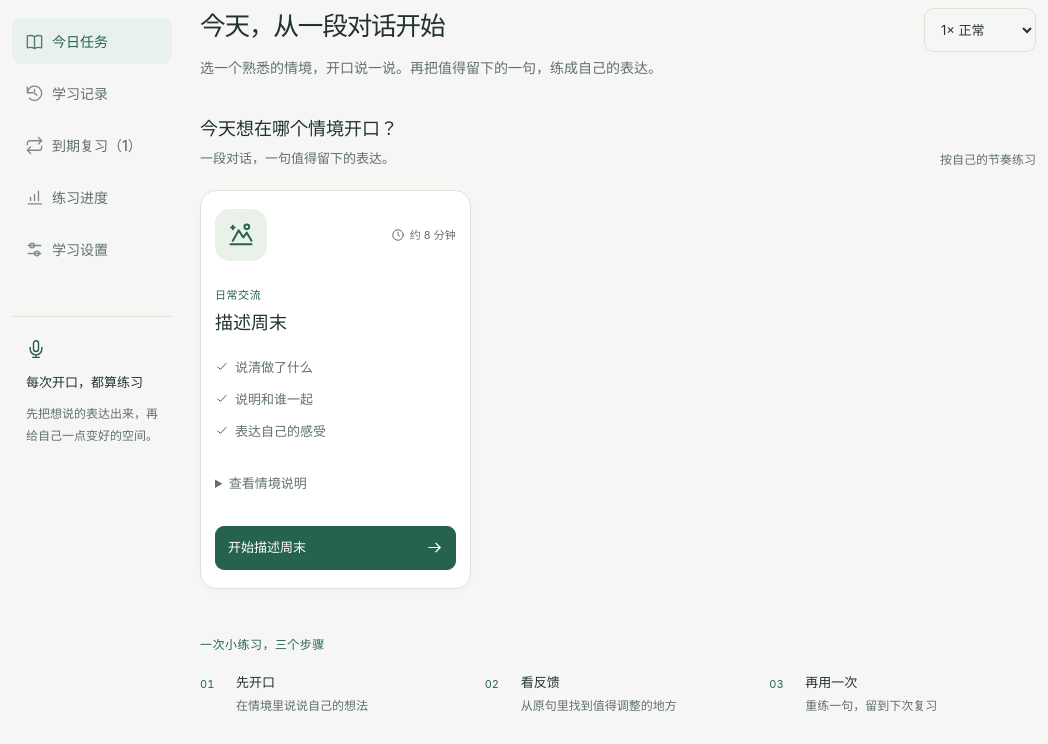
Test case: hides the next prompt after an assessed response and does not submit another answer before due
Click the button "到期复习（1）".
click(92, 145)  # box [12,122,172,168]
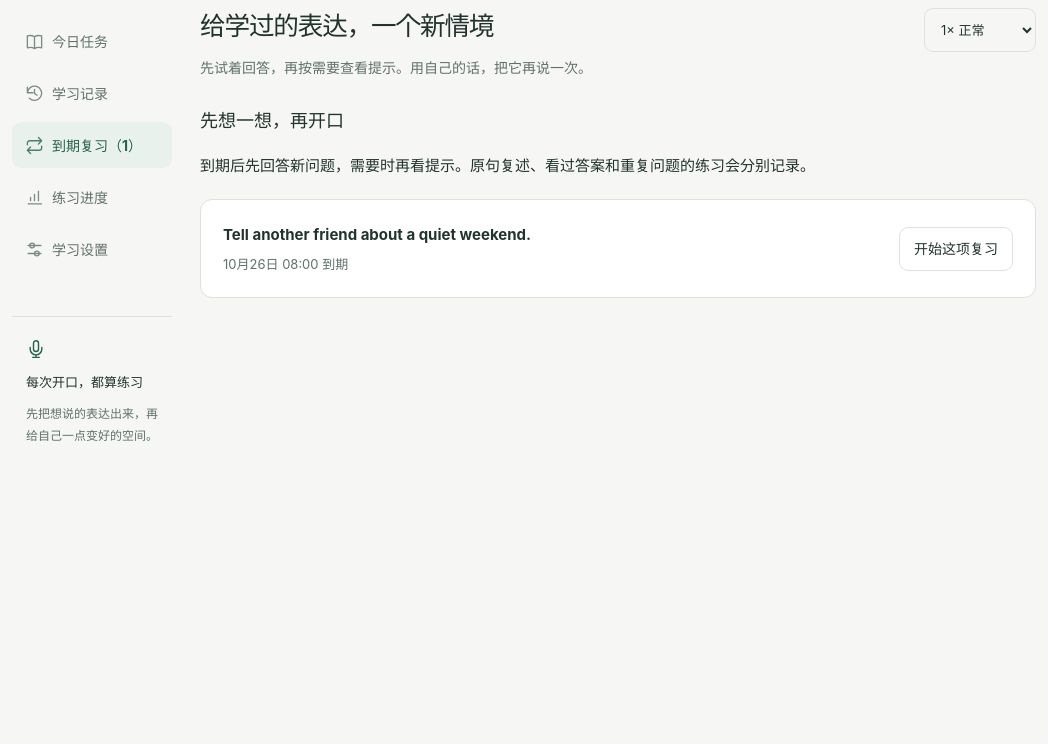
Click the button "开始这项复习".
click(956, 248)  # box [899,226,1013,270]
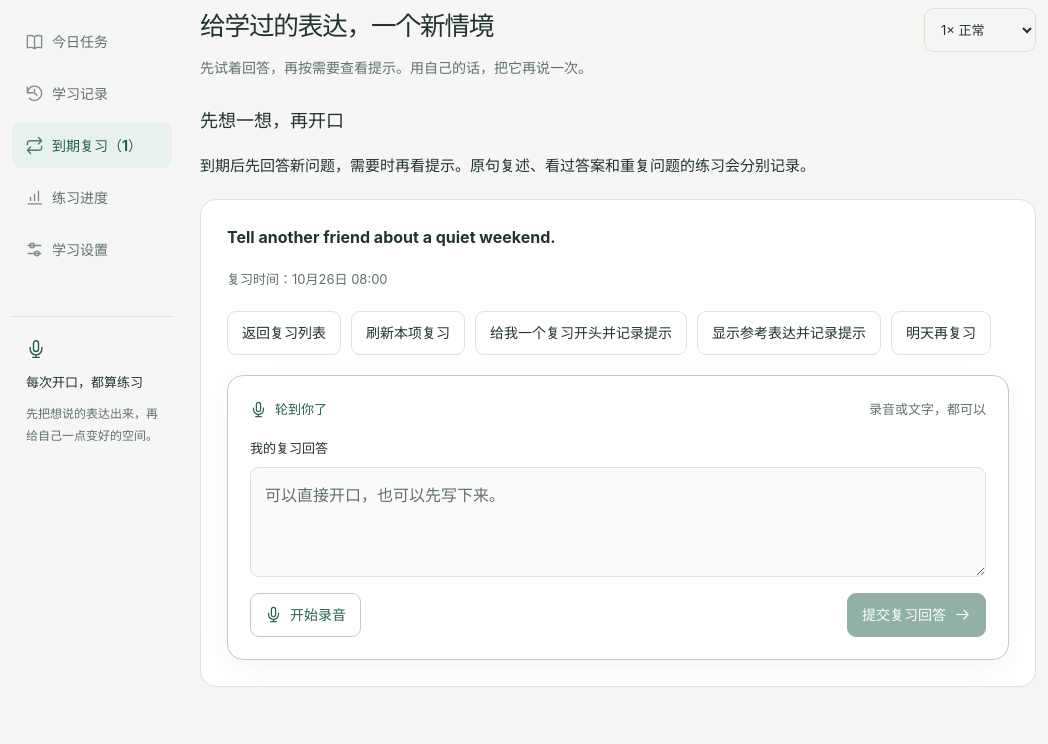
Type "I read at home alone and felt rested." into the text box labelled "我的复习回答".
click(618, 522); type("I read at home alone and felt rested.")  # box [250,467,986,577]
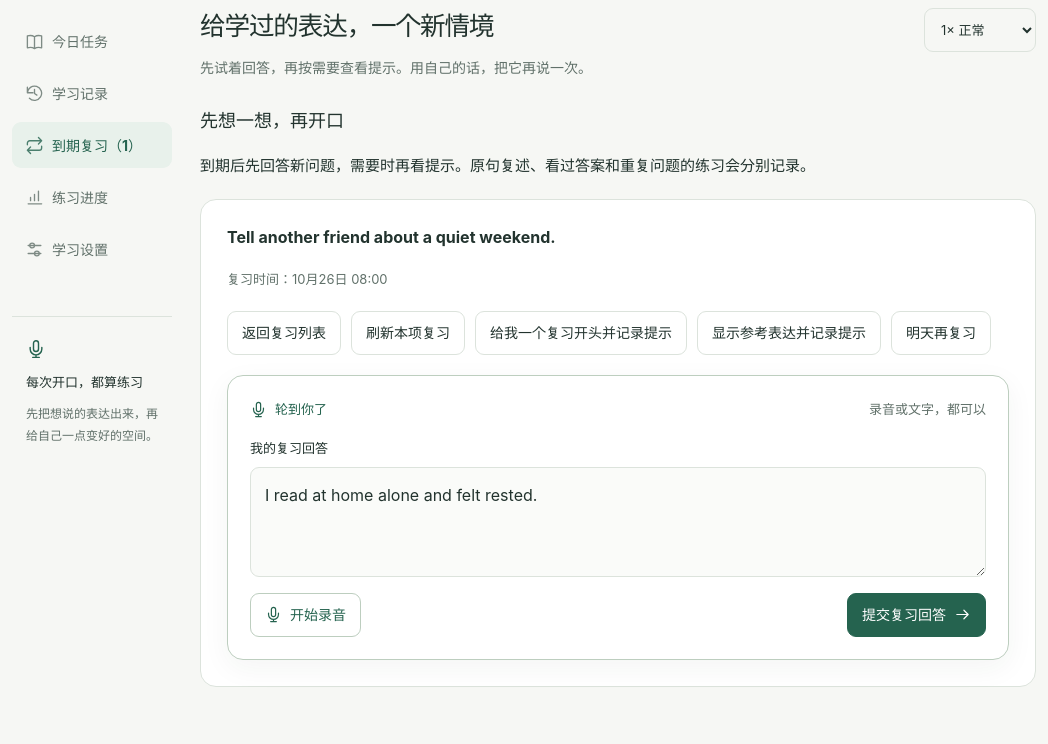
Click the button "提交复习回答".
click(916, 615)  # box [847,593,986,637]
(page scrolled)
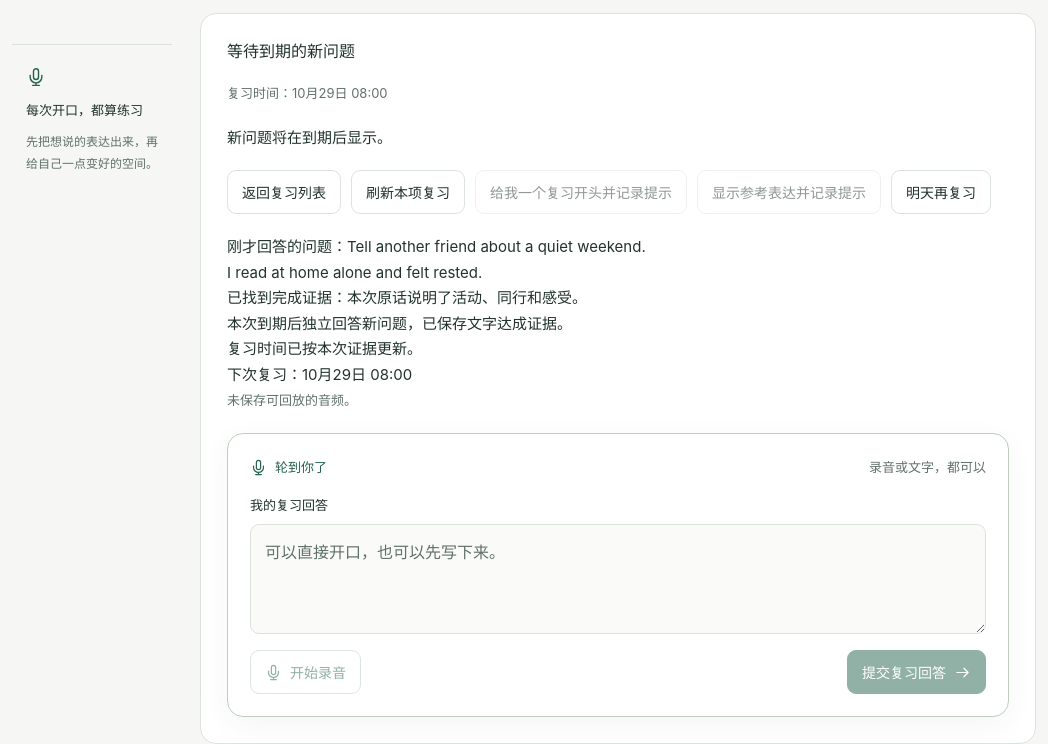
Result: the heading "等待到期的新问题" is shown at [227,40,355,60]
Result: the text "本次到期后独立回答新问题，已保存文字达成证据。" is shown at [227,314,572,333]
Result: the button "提交复习回答" is disabled at [847,650,986,694]
